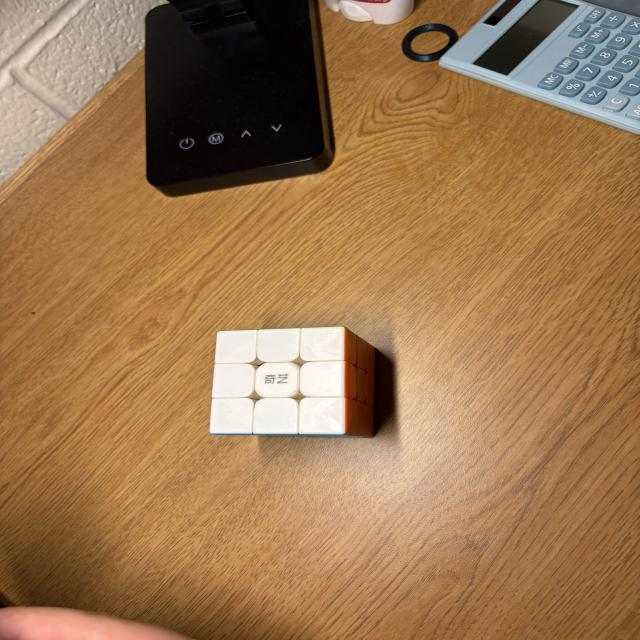Rubiks Cube: (210, 327, 376, 437)
